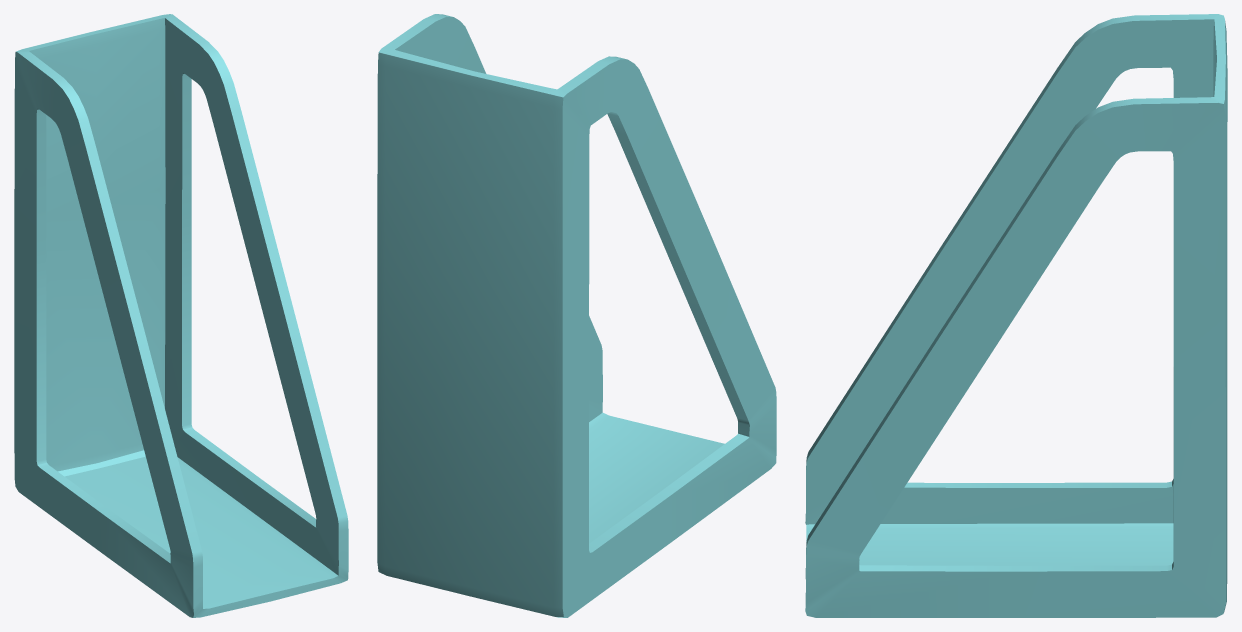
Rendered from file_mint.fbx.
3 renders of one model, left to right at view 1: azimuth 30°, elevation 25°; view 2: azimuth 150°, elevation 25°; view 3: azimuth 270°, elevation 25°, orthographic. The views are drawn at different scales.
Visible parts, largest first — view 1: folder stand; view 2: folder stand; view 3: folder stand.
Part boxes in pixels (left/top/right/bottom): folder stand: left=14, top=14, right=348, bottom=617; folder stand: left=377, top=14, right=776, bottom=617; folder stand: left=805, top=14, right=1227, bottom=617.
Size of the model in its own units: 1369 by 3706 by 2741.
